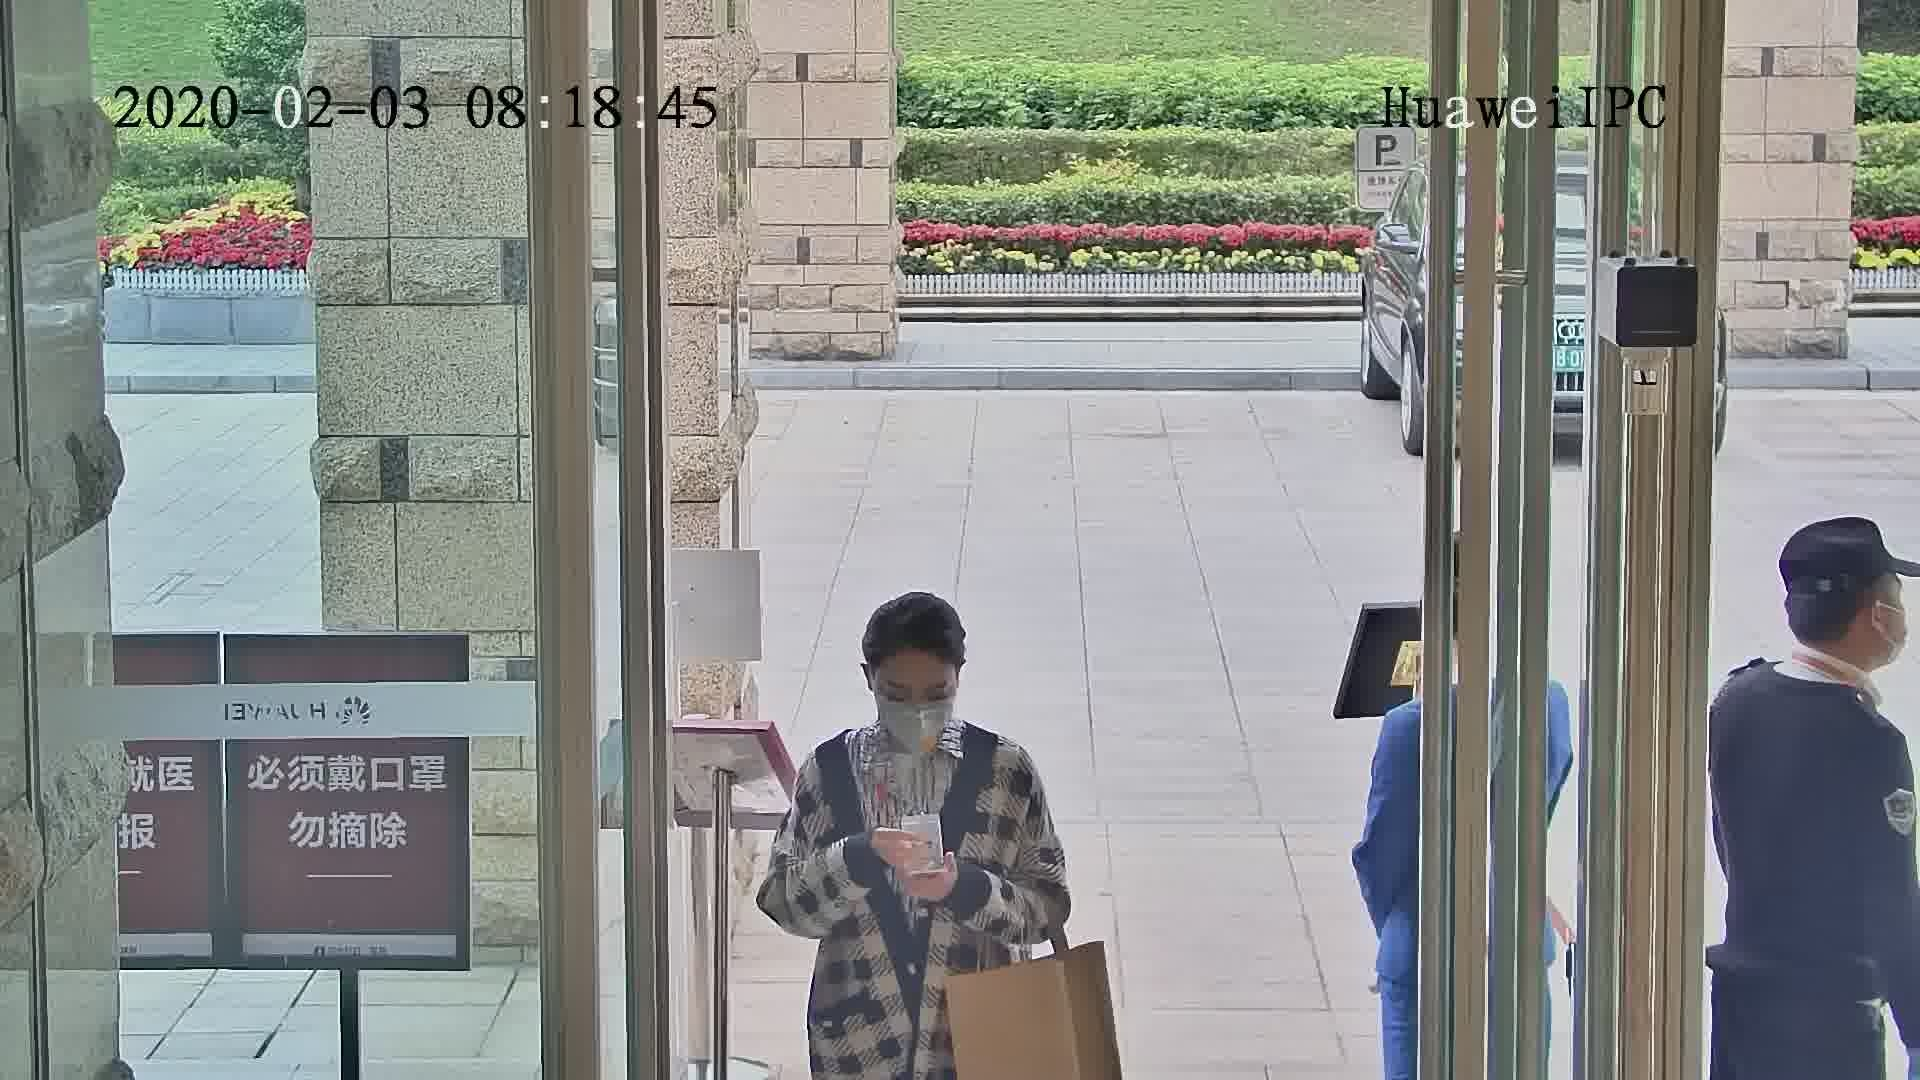face: (872, 653, 962, 743)
mask: (871, 698, 956, 753)
person: (1710, 512, 1914, 789), (797, 589, 1022, 803)
